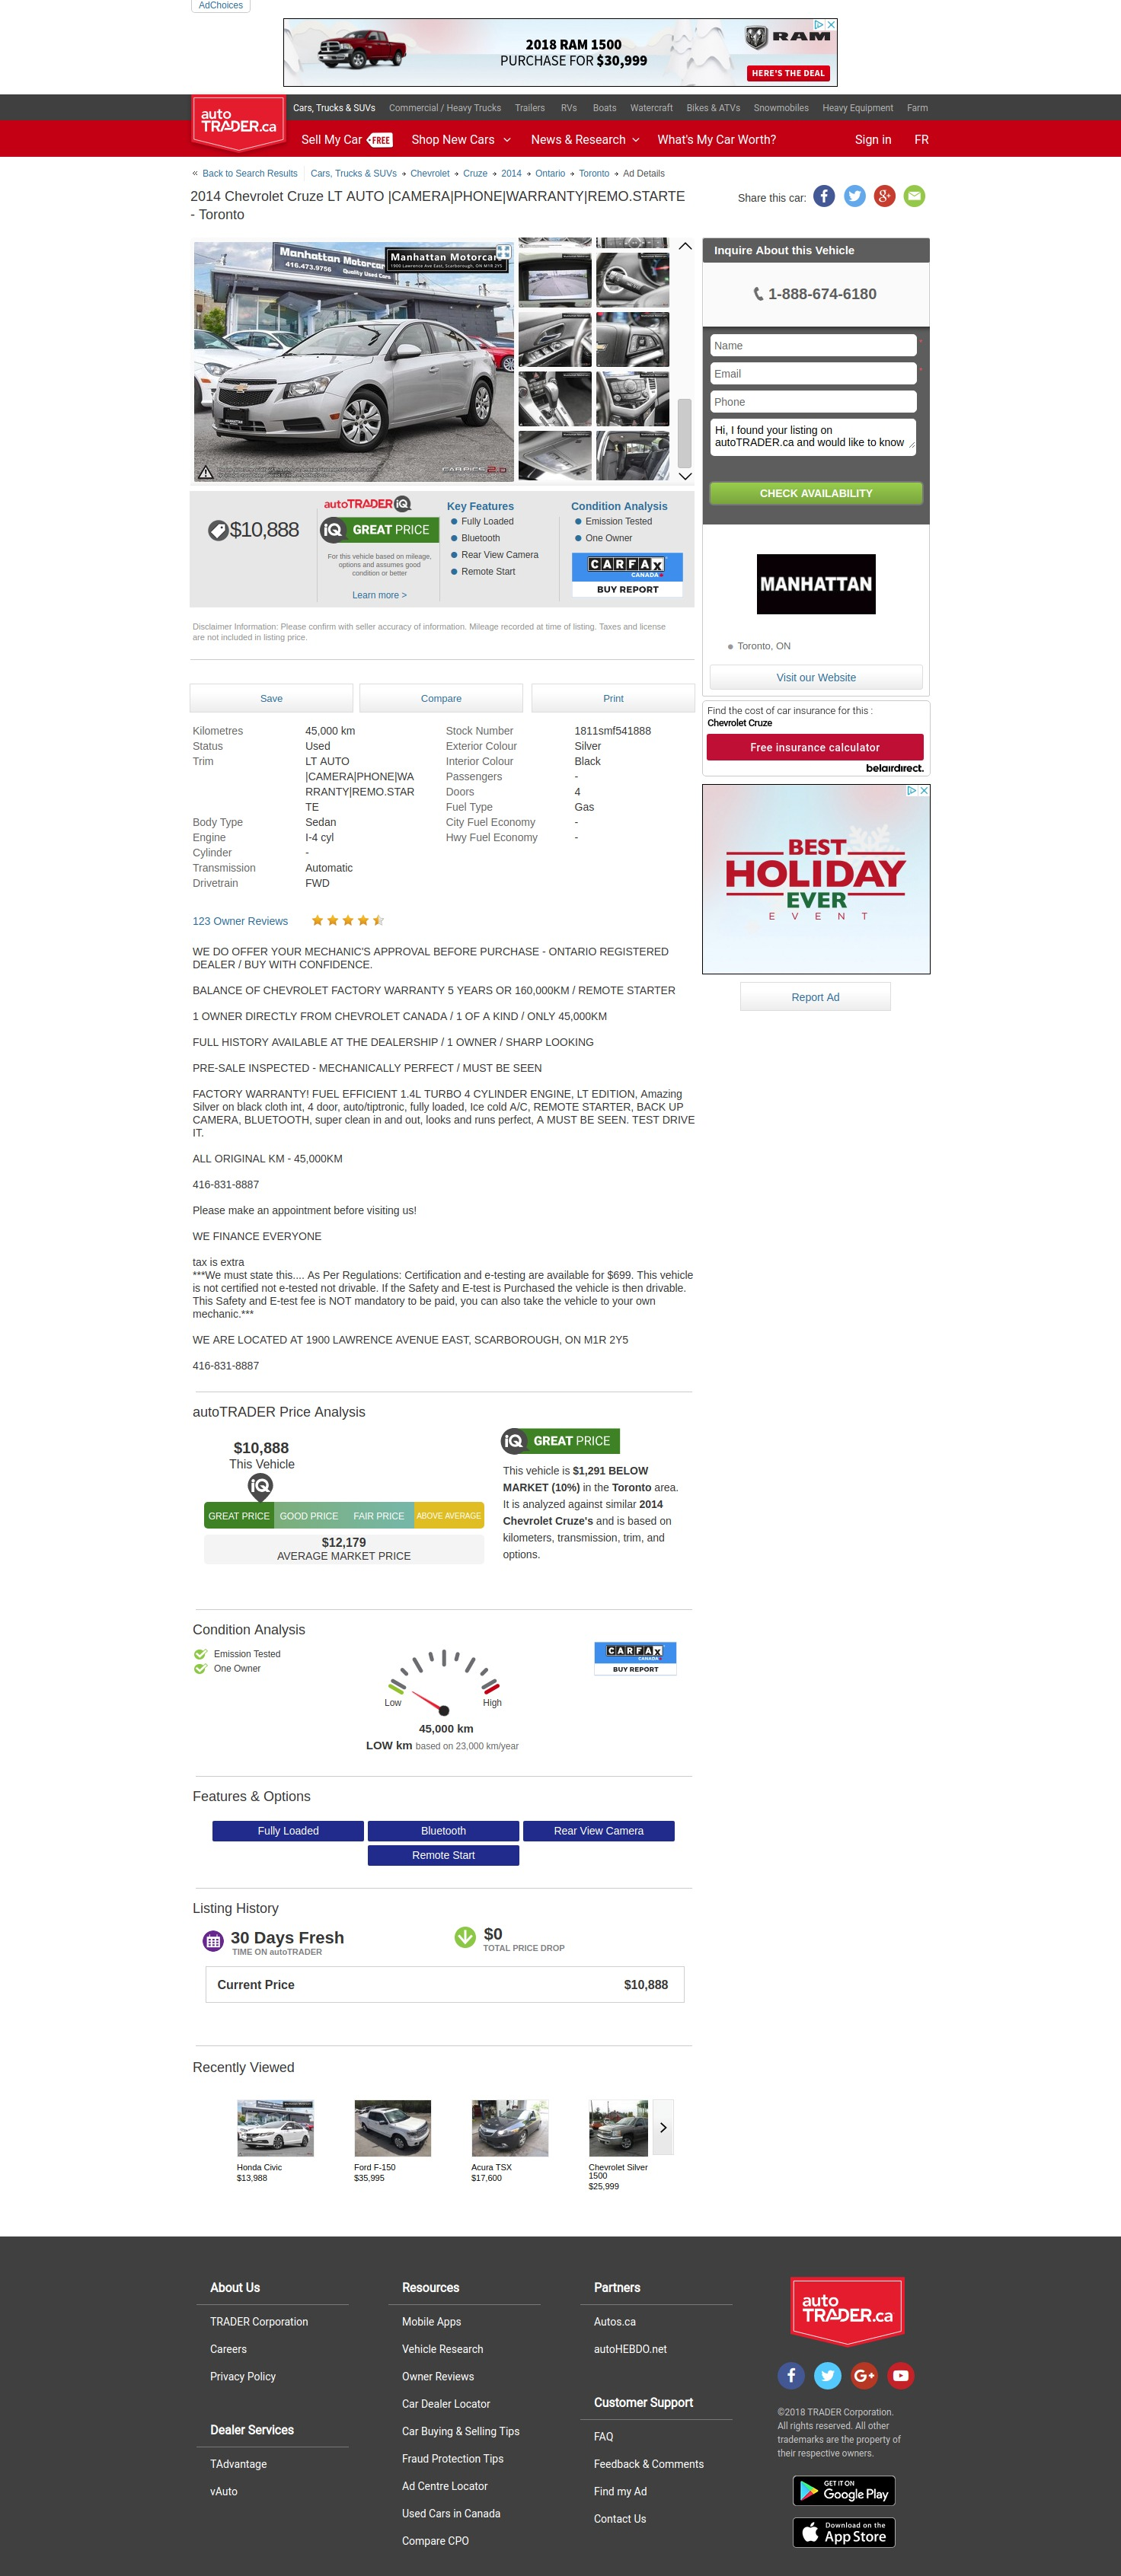car: (677, 471, 695, 485)
